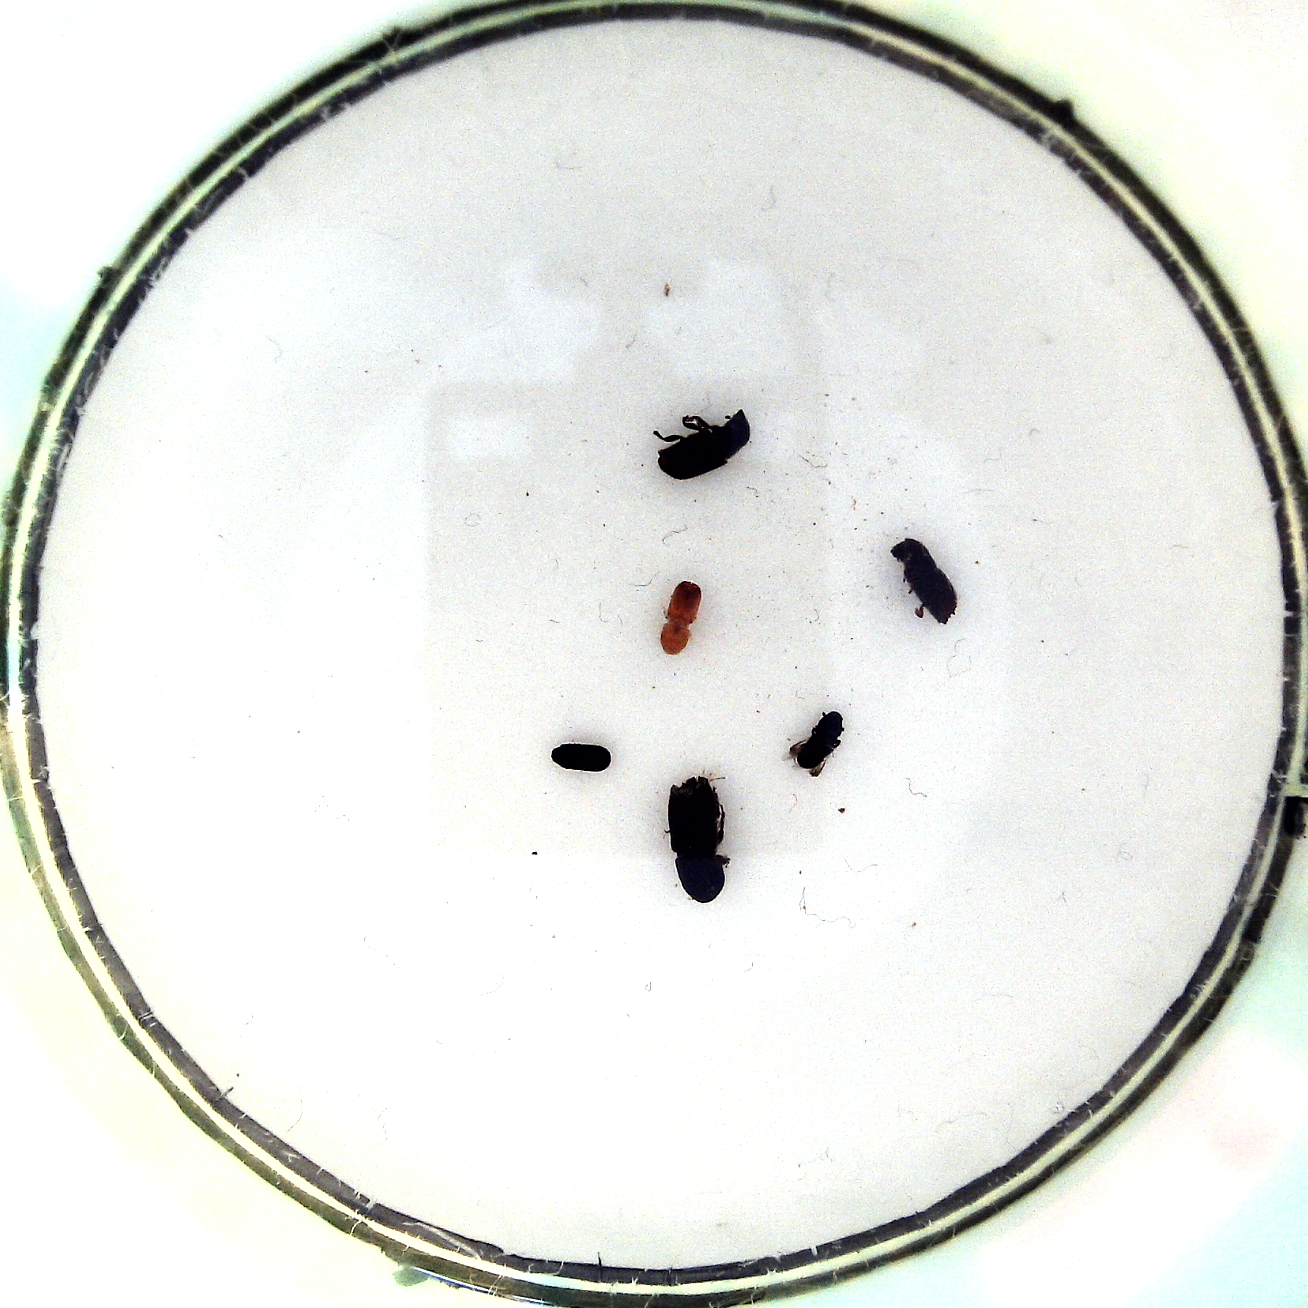Boerner: (662, 767, 738, 907)
Linnaeus: (889, 528, 961, 626)
acuminatus: (658, 573, 707, 658)
armandi: (644, 405, 757, 482)
coleoptera: (779, 707, 844, 781), (544, 735, 618, 779)
